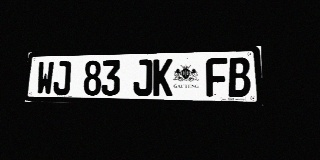3: (101, 60, 120, 96)
8: (83, 60, 102, 95)
B: (228, 57, 251, 97)
F: (206, 58, 228, 97)
J: (133, 59, 152, 96), (53, 61, 71, 95)
K: (153, 59, 173, 96)
W: (36, 61, 54, 95)
